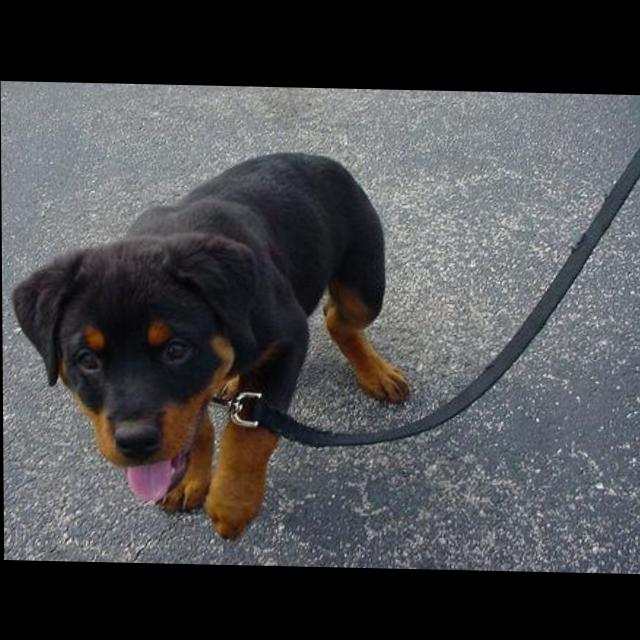rottweiler: (13, 144, 413, 541)
